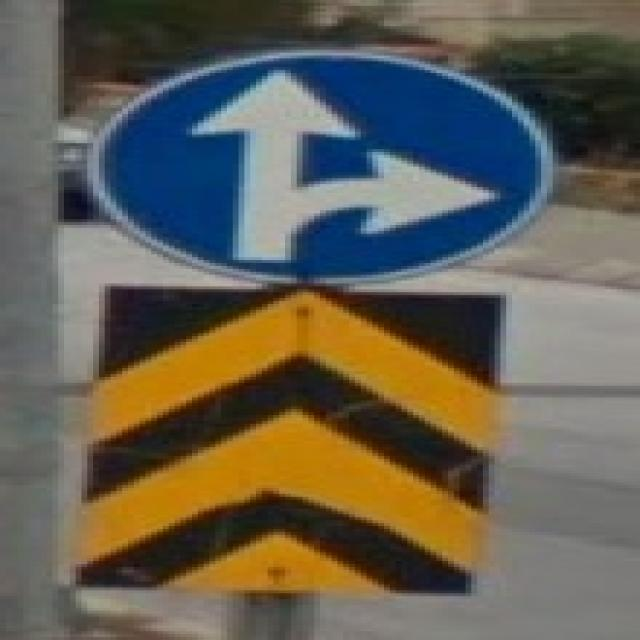Straight or Right: (82, 54, 548, 282)
